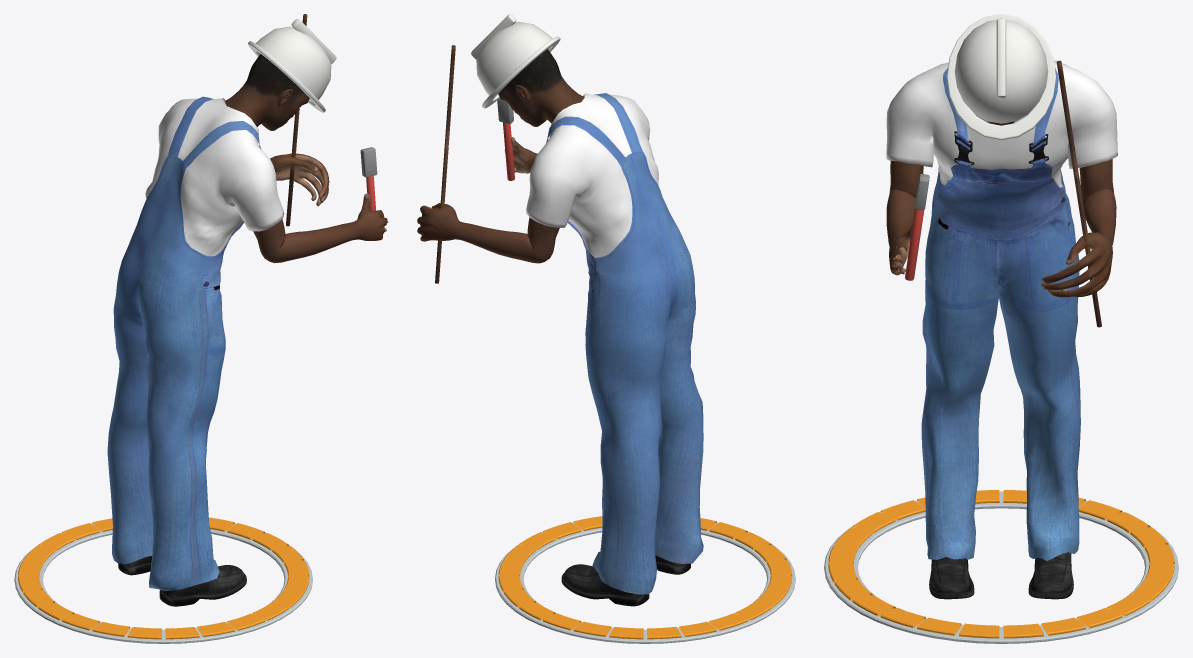
Rendered from MDO-OBR-004.glb.
The picture shows the model from 3 angles, left to right: view 1: azimuth 30°, elevation 25°; view 2: azimuth 150°, elevation 25°; view 3: azimuth 270°, elevation 25°; orthographic projection. The views are drawn at different scales.
Parts seen in each view (by area): view 1: MDO-OBR-004_pessoa_male_worksuit01, MDO-OBR-004_pessoa, MDO-OBR-004_anel_fundo, MDO-OBR-004_capacete, MDO-OBR-004_pessoa_shoes04, MDO-OBR-004_capacete_aba, MDO-OBR-004_ferE_vergalhao; view 2: MDO-OBR-004_pessoa_male_worksuit01, MDO-OBR-004_pessoa, MDO-OBR-004_anel_fundo, MDO-OBR-004_capacete, MDO-OBR-004_pessoa_shoes04, MDO-OBR-004_ferE_vergalhao, MDO-OBR-004_capacete_aba; view 3: MDO-OBR-004_pessoa_male_worksuit01, MDO-OBR-004_pessoa, MDO-OBR-004_capacete, MDO-OBR-004_anel_fundo, MDO-OBR-004_pessoa_shoes04, MDO-OBR-004_capacete_aba, MDO-OBR-004_ferE_vergalhao, MDO-OBR-004_capacete_friso, MDO-OBR-004_ferD_cabo1, MDO-OBR-004_anel_h04, MDO-OBR-004_anel_h07, MDO-OBR-004_anel_h03 (+9 smaller).
Boxes of the visible parts, x1=… form: MDO-OBR-004_pessoa_male_worksuit01: x1=107, y1=96, x2=284, y2=590; MDO-OBR-004_pessoa: x1=224, y1=54, x2=388, y2=263; MDO-OBR-004_anel_fundo: x1=14, y1=523, x2=312, y2=643; MDO-OBR-004_capacete: x1=255, y1=26, x2=331, y2=102; MDO-OBR-004_pessoa_shoes04: x1=118, y1=556, x2=246, y2=606; MDO-OBR-004_capacete_aba: x1=248, y1=41, x2=325, y2=112; MDO-OBR-004_ferE_vergalhao: x1=286, y1=14, x2=307, y2=226; MDO-OBR-004_pessoa_male_worksuit01: x1=526, y1=93, x2=703, y2=594; MDO-OBR-004_pessoa: x1=417, y1=49, x2=584, y2=263; MDO-OBR-004_anel_fundo: x1=495, y1=522, x2=795, y2=643; MDO-OBR-004_capacete: x1=476, y1=22, x2=552, y2=98; MDO-OBR-004_pessoa_shoes04: x1=561, y1=548, x2=690, y2=606; MDO-OBR-004_ferE_vergalhao: x1=435, y1=45, x2=455, y2=283; MDO-OBR-004_capacete_aba: x1=482, y1=36, x2=560, y2=108; MDO-OBR-004_pessoa_male_worksuit01: x1=886, y1=60, x2=1117, y2=560; MDO-OBR-004_pessoa: x1=886, y1=121, x2=1116, y2=297; MDO-OBR-004_capacete: x1=954, y1=19, x2=1048, y2=123; MDO-OBR-004_anel_fundo: x1=824, y1=491, x2=1178, y2=643; MDO-OBR-004_pessoa_shoes04: x1=929, y1=552, x2=1073, y2=599; MDO-OBR-004_capacete_aba: x1=946, y1=14, x2=1056, y2=140; MDO-OBR-004_ferE_vergalhao: x1=1056, y1=60, x2=1101, y2=327; MDO-OBR-004_capacete_friso: x1=996, y1=18, x2=1006, y2=98; MDO-OBR-004_ferD_cabo1: x1=905, y1=208, x2=924, y2=280; MDO-OBR-004_anel_h04: x1=1041, y1=617, x2=1085, y2=635; MDO-OBR-004_anel_h07: x1=917, y1=617, x2=961, y2=635; MDO-OBR-004_anel_h03: x1=1077, y1=607, x2=1122, y2=628.
Bounding box in the file's own units: 1.04 × 1.65 × 0.84.
11 materials, 6 textured.
